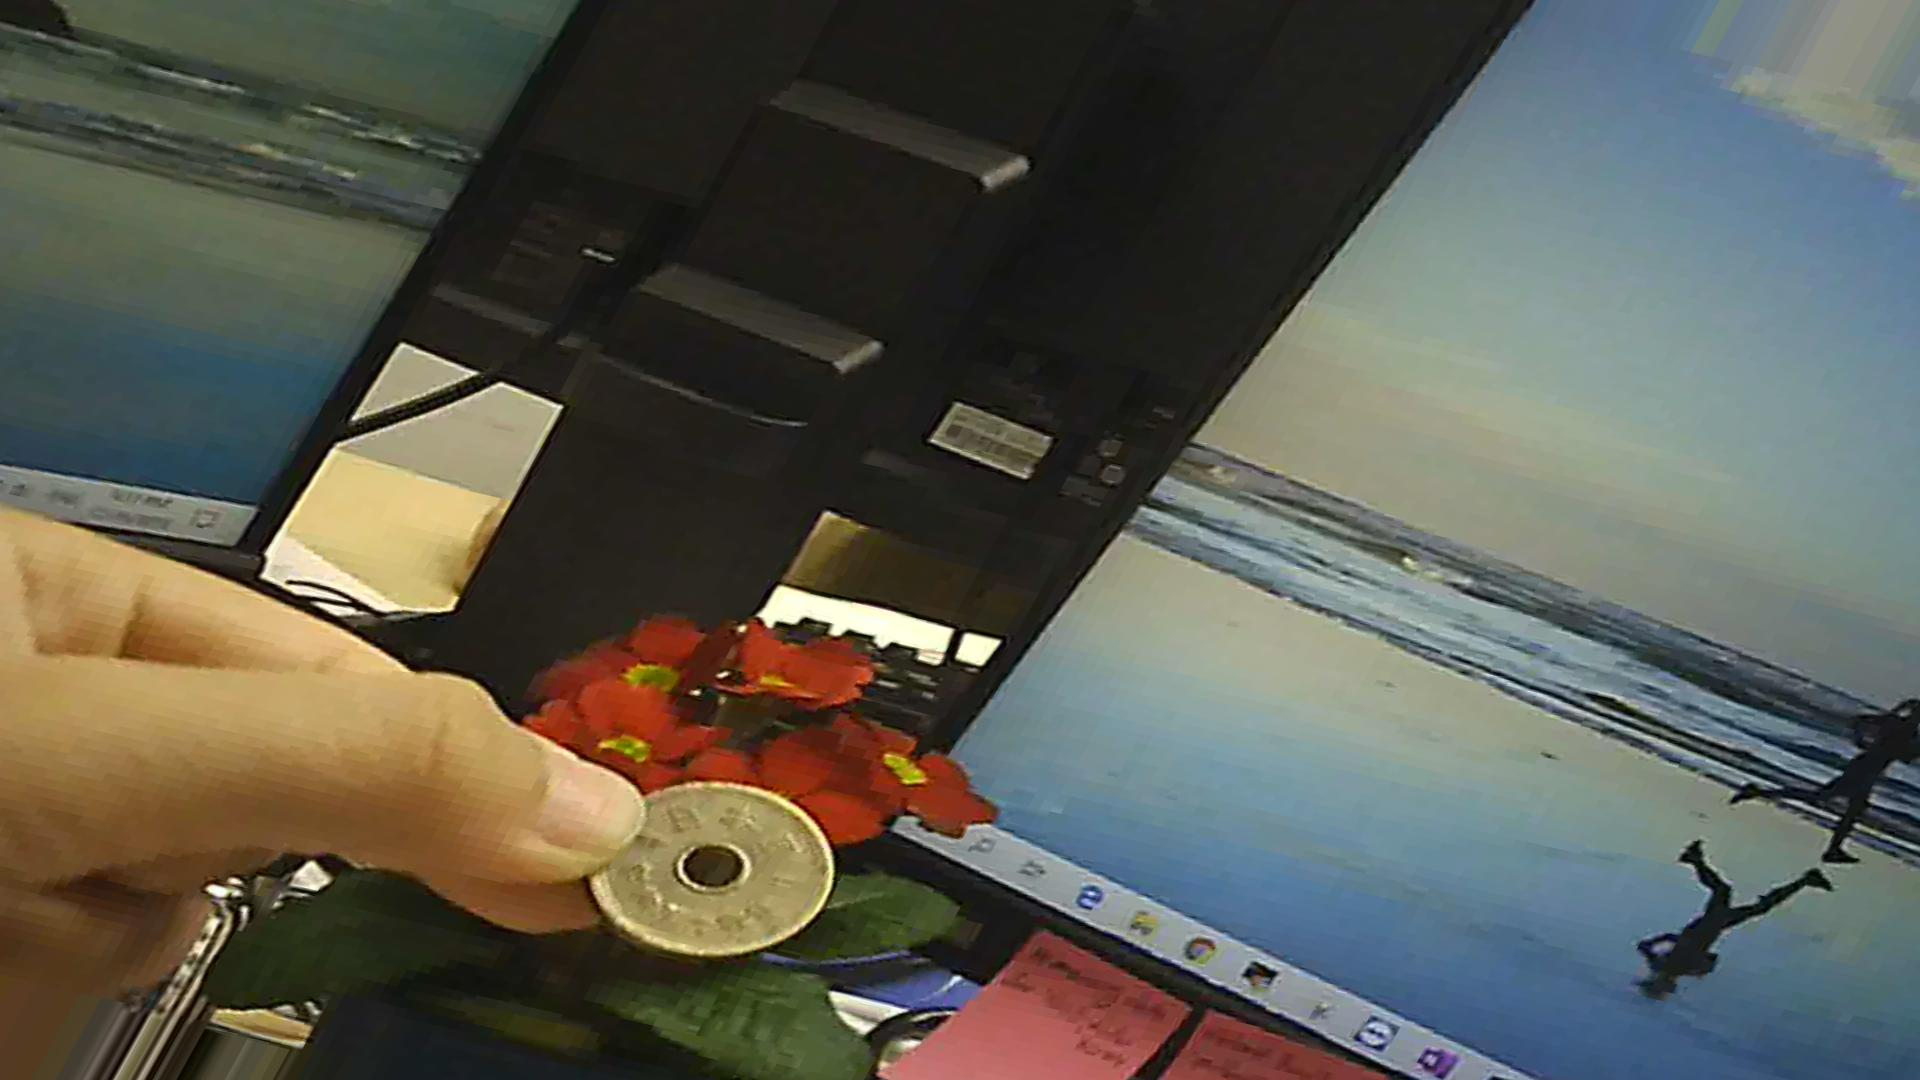5 Yen: (583, 767, 833, 963)
